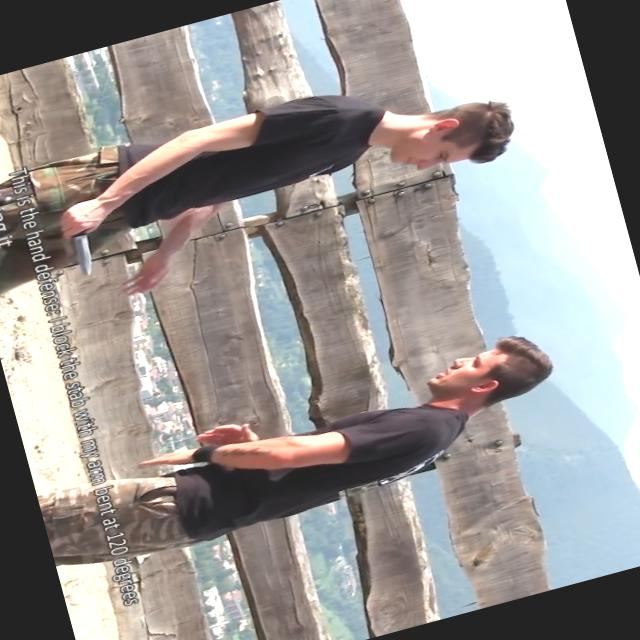knife: (51, 195, 118, 286)
